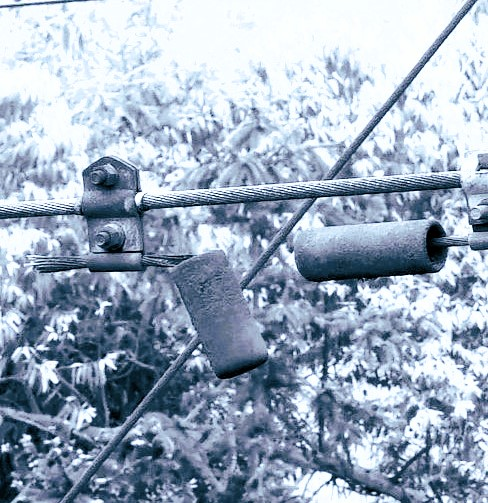Damage of shockproof hammer: (14, 150, 283, 392)
